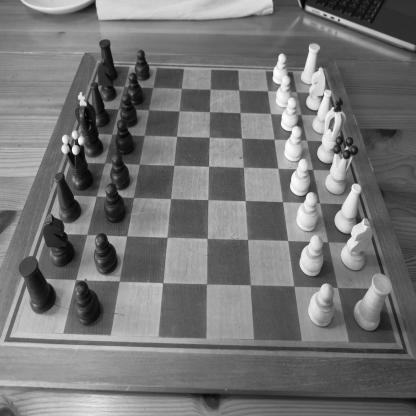black-bishop: (54, 172, 81, 223), (90, 81, 110, 128)
black-king: (74, 91, 104, 158)
black-knight: (42, 213, 74, 266), (96, 57, 116, 102)
black-pawn: (73, 280, 101, 326), (93, 233, 118, 276), (104, 182, 126, 224), (110, 152, 130, 191), (115, 119, 134, 155), (120, 93, 138, 128), (127, 72, 143, 106), (135, 50, 150, 82)
black-queen: (62, 129, 94, 191)
black-rook: (18, 255, 56, 314), (98, 38, 118, 81)
white-bishop: (334, 183, 362, 235), (312, 90, 332, 134)
white-king: (317, 97, 346, 164)
white-knight: (341, 218, 373, 271), (306, 67, 326, 111)
white-pawn: (308, 282, 335, 327), (299, 235, 324, 277), (296, 192, 318, 232), (290, 158, 310, 197), (284, 126, 303, 162), (280, 97, 298, 132), (275, 75, 292, 108), (272, 53, 288, 85)
white-queen: (325, 136, 358, 196)
white-rook: (353, 273, 392, 332), (300, 43, 320, 85)
